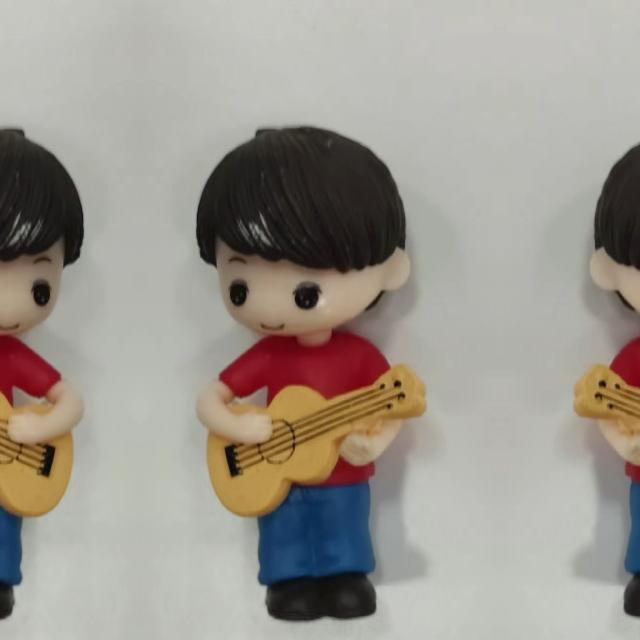man cloth: (204, 331, 400, 483), (0, 331, 75, 483), (600, 331, 640, 483)
man head: (190, 119, 418, 339), (0, 119, 90, 339), (582, 119, 640, 339)
trousers: (233, 484, 389, 620), (0, 483, 47, 620), (611, 483, 640, 620)
